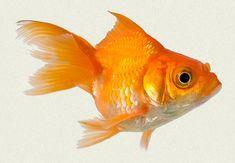goldfish: (22, 9, 227, 149)
